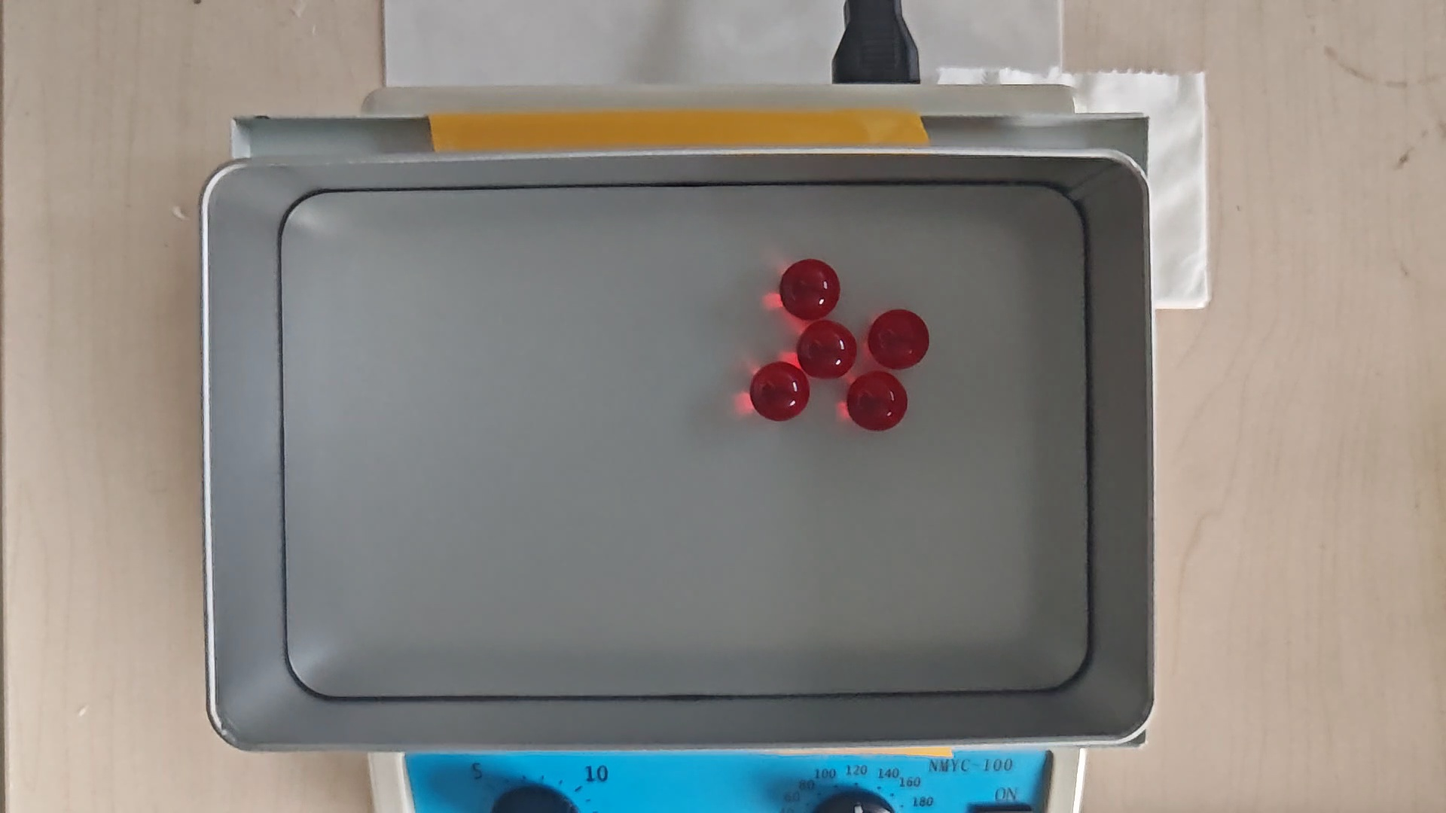ball: (847, 371, 907, 431), (751, 361, 810, 422), (798, 321, 857, 380), (871, 310, 929, 369), (781, 260, 840, 318)
container: (279, 186, 1087, 699)
